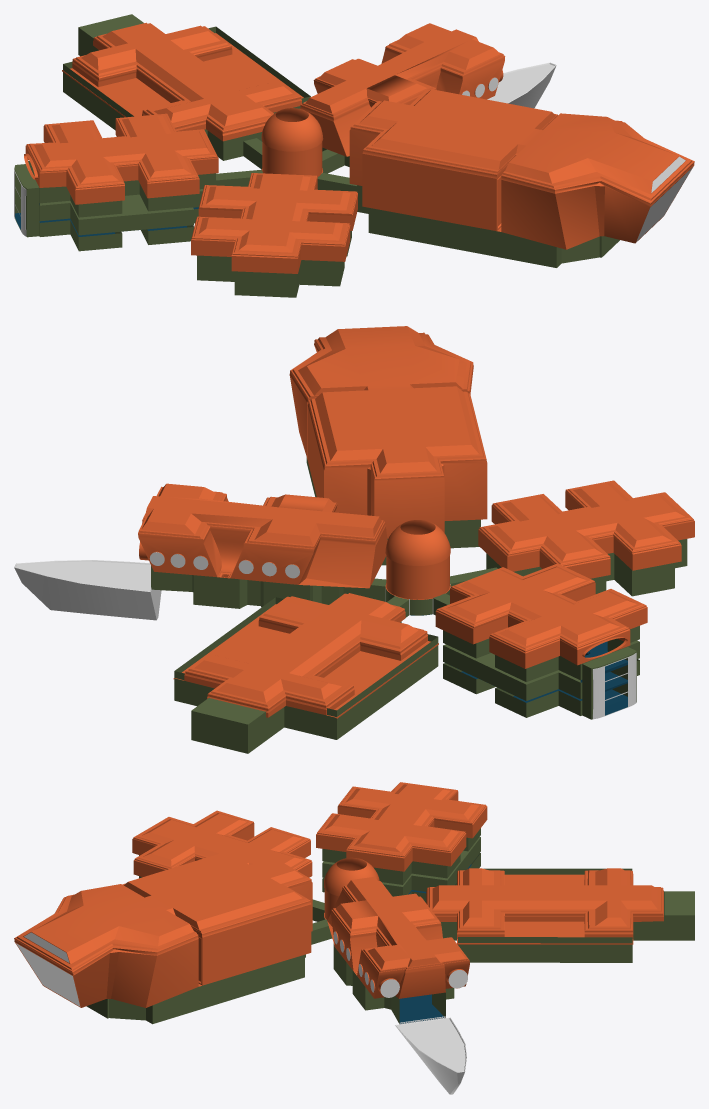
The model's file is Veteran Art Museum.FBX.
3 renders of one model, top to bottom at view 1: azimuth 30°, elevation 25°; view 2: azimuth 150°, elevation 25°; view 3: azimuth 270°, elevation 25°, orthographic. The views are drawn at different scales.
Parts seen in each view (by area): view 1: Ceiling003, Ceiling, Ceiling002, Ceiling001, Ceiling004, Box006, Box008, Box001, Capsule001, Box007, Box011, Glass Window (+2 smaller); view 2: Ceiling003, Ceiling, Ceiling004, Ceiling002, Ceiling001, Box001, Box006, Box011, Box009, Capsule001, Box007, Long Verticle Window (+2 smaller); view 3: Ceiling003, Ceiling, Ceiling004, Ceiling001, Box001, Ceiling002, Box008, Box011, Box006, Box009, Capsule001, Glass Window (+2 smaller).
Boxes of the visible parts, x1,y1,x2,y2 form: Ceiling003: (349, 89, 694, 249); Ceiling: (62, 22, 303, 141); Ceiling002: (191, 173, 357, 273); Ceiling001: (24, 113, 218, 204); Ceiling004: (300, 23, 505, 156); Box006: (14, 161, 215, 251); Box008: (317, 173, 619, 267); Box001: (63, 14, 310, 169); Capsule001: (261, 108, 323, 176); Box007: (197, 231, 351, 297); Box011: (463, 62, 556, 108); Glass Window: (636, 167, 692, 241); Ceiling003: (289, 326, 487, 538); Ceiling: (173, 593, 438, 718); Ceiling004: (138, 483, 387, 588); Ceiling002: (478, 480, 694, 578); Ceiling001: (435, 563, 647, 668); Box001: (174, 596, 438, 753); Box006: (443, 626, 639, 719); Box011: (14, 560, 161, 620); Box009: (151, 563, 386, 608); Capsule001: (385, 520, 450, 599); Box007: (450, 539, 687, 596); Long Verticle Window: (592, 653, 636, 719); Ceiling003: (14, 852, 312, 1007); Ceiling: (426, 868, 663, 944); Ceiling004: (327, 876, 469, 998); Ceiling001: (316, 782, 487, 871); Box001: (440, 868, 694, 962); Ceiling002: (132, 810, 312, 877); Box008: (86, 919, 332, 1024); Box011: (395, 1017, 466, 1094); Box006: (322, 828, 480, 902); Box009: (333, 943, 454, 1023); Capsule001: (324, 857, 379, 920); Glass Window: (16, 943, 80, 1006).
Size of what is drawn, in the model's own units: 12476 by 2916 by 14381.
